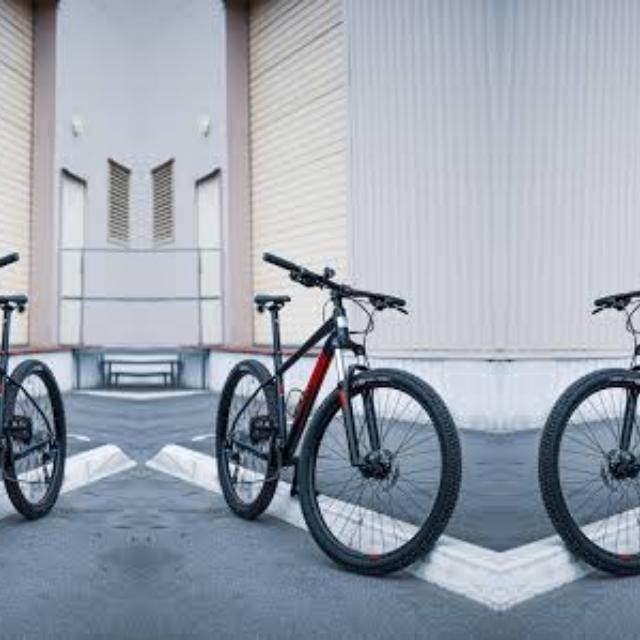obstacle: (185, 244, 473, 586), (527, 244, 640, 586), (0, 244, 95, 586)
